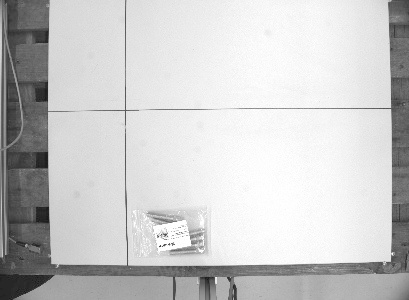t2: (130, 203, 213, 259)
